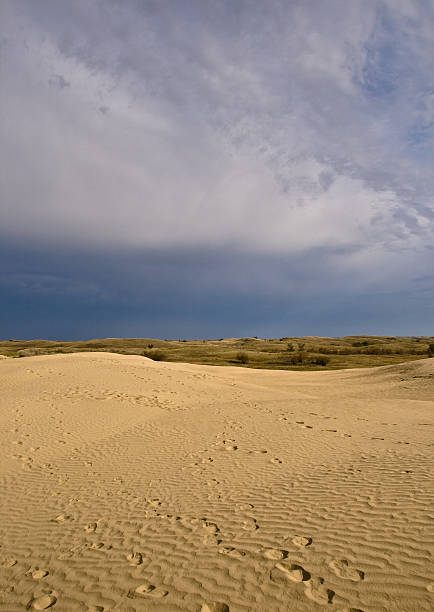human_foot_print: (270, 559, 334, 604), (160, 515, 221, 544), (57, 541, 111, 559), (270, 560, 310, 582), (305, 577, 335, 604), (329, 559, 364, 581), (26, 591, 58, 611), (128, 583, 167, 598), (56, 544, 88, 560), (201, 519, 220, 544), (214, 432, 237, 449), (218, 546, 246, 559), (262, 548, 287, 560), (241, 515, 258, 531), (201, 519, 219, 534), (26, 567, 48, 579), (201, 602, 229, 611), (291, 535, 312, 547), (126, 551, 142, 565), (217, 439, 237, 450), (52, 513, 73, 523), (241, 518, 258, 530), (89, 541, 111, 550), (0, 584, 14, 598), (0, 557, 16, 567), (194, 456, 213, 464), (206, 478, 220, 488), (236, 503, 253, 511), (84, 522, 97, 532), (86, 604, 104, 611), (147, 498, 161, 507), (366, 495, 376, 507), (248, 448, 268, 454), (337, 607, 363, 611), (224, 444, 237, 450), (426, 582, 433, 593), (270, 457, 282, 463), (323, 428, 337, 432), (371, 436, 384, 440), (295, 421, 304, 426), (357, 417, 368, 421), (395, 441, 409, 444), (302, 424, 312, 428), (341, 433, 351, 437), (295, 421, 303, 424), (309, 412, 317, 415)
